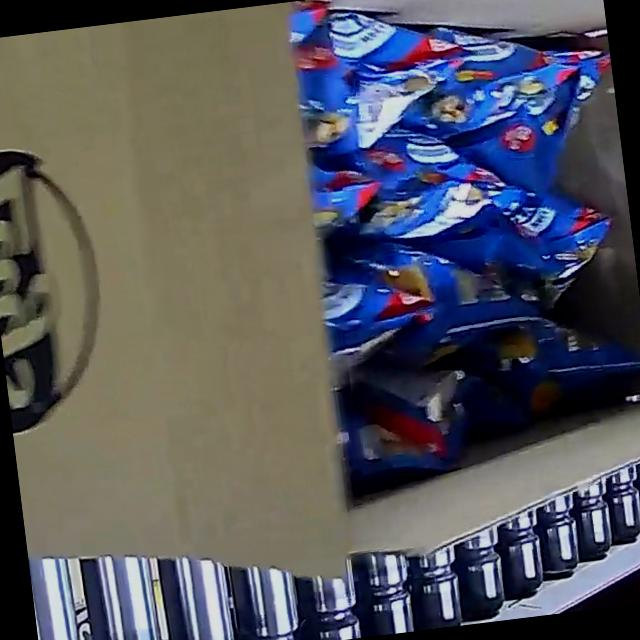paprika: (284, 0, 640, 483)
